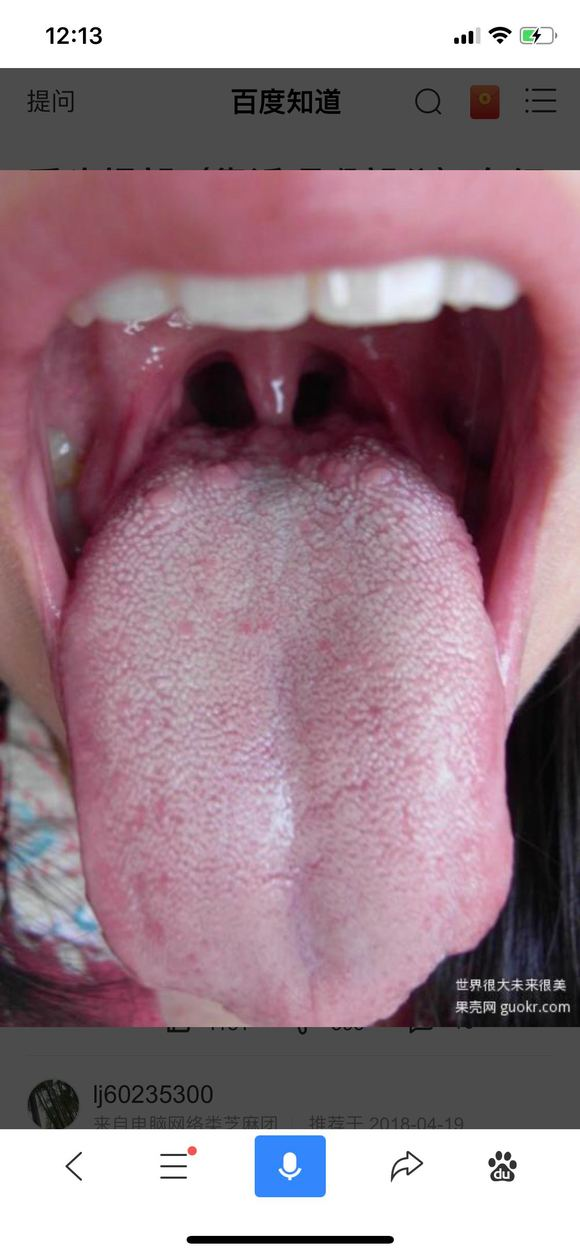baitaishe: (57, 421, 514, 1025)
